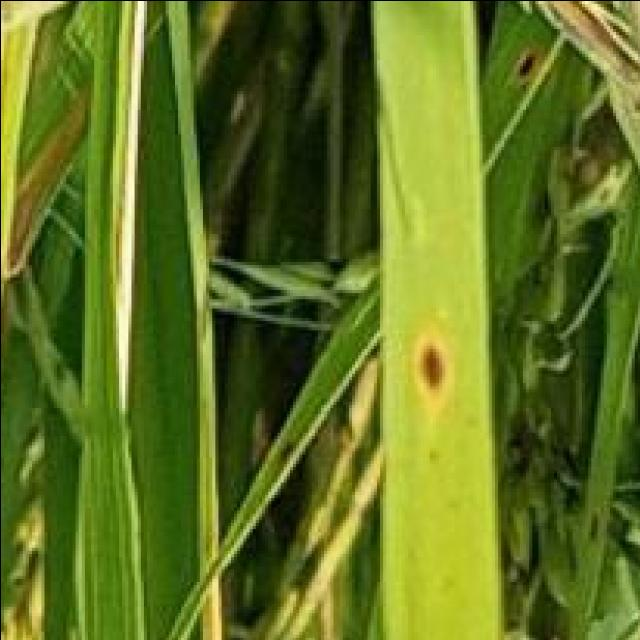Brown_Spot: (404, 326, 463, 428)
